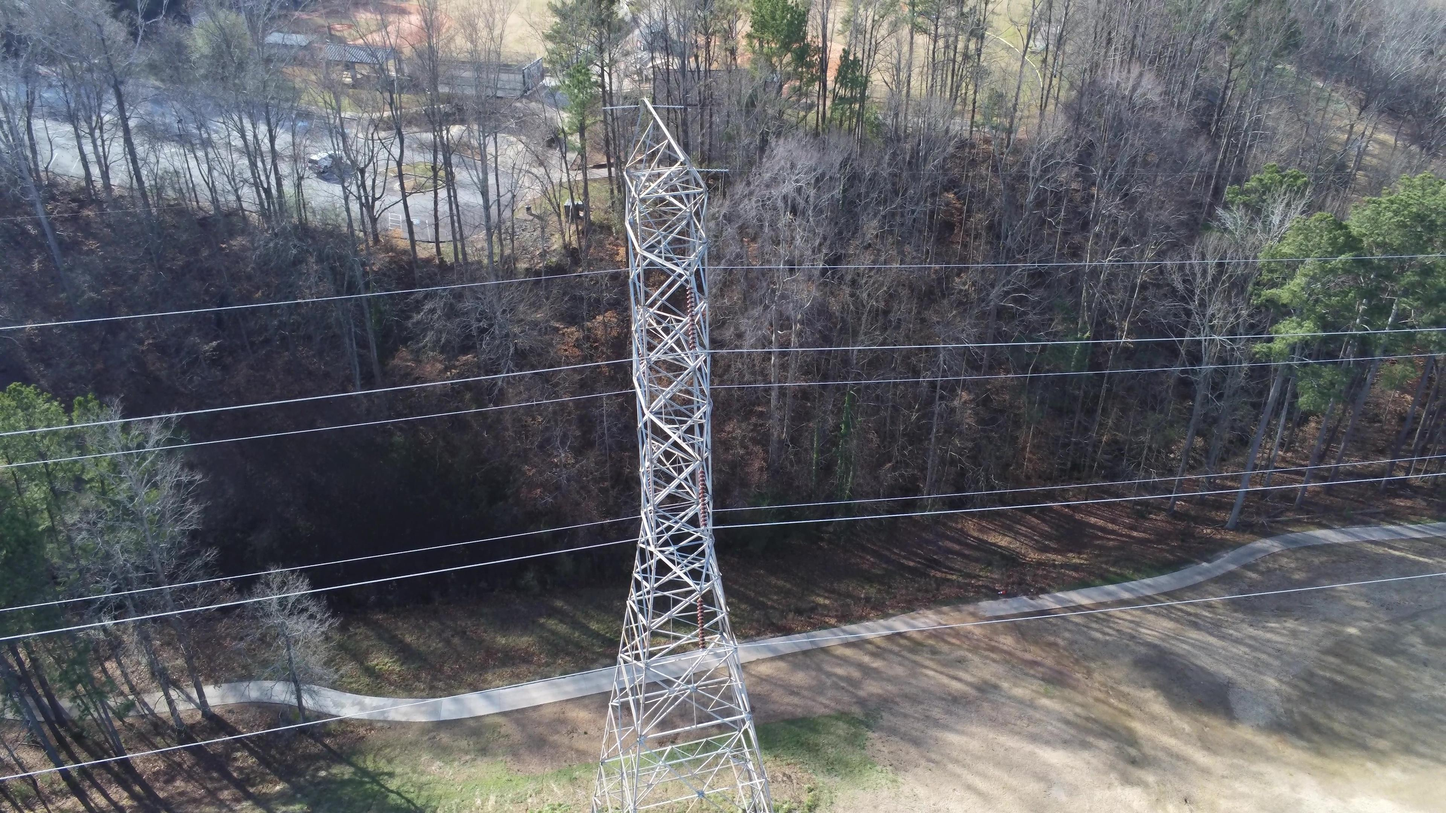power_tower: (590, 99, 775, 811)
